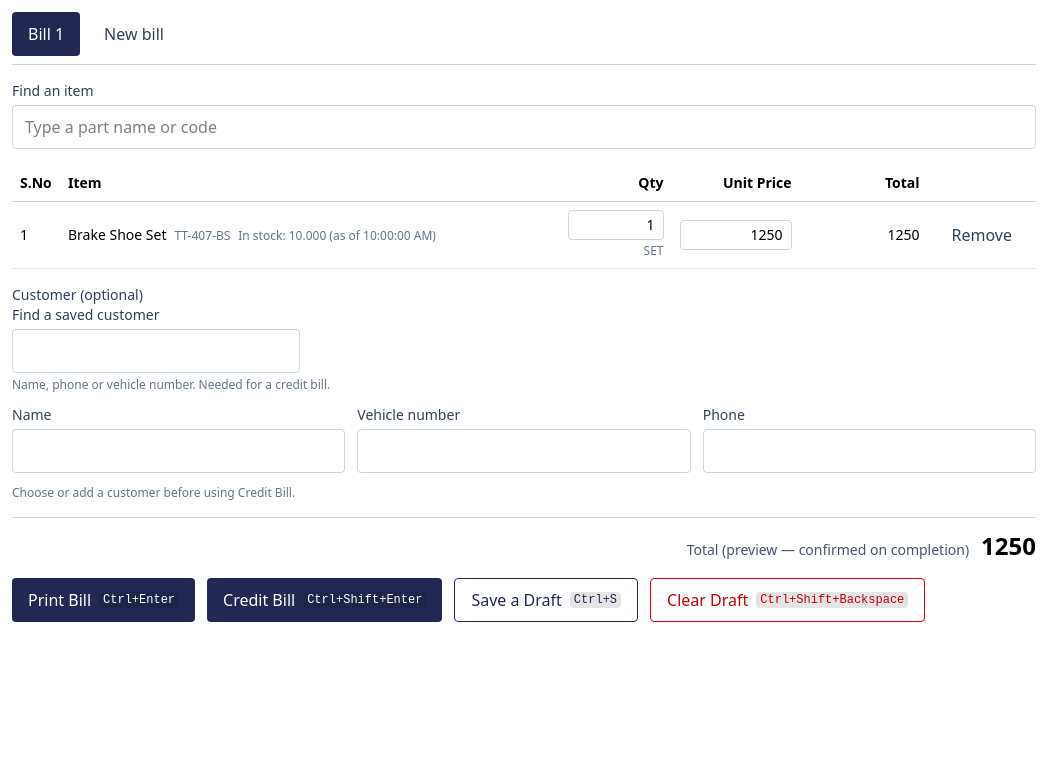
Test case: credit requires a saved customer (FR-CREDIT-009) › refuses before sending and says why
This screenshot has width=1048, height=780.
Click the button "Credit Bill Ctrl+Shift+Enter" at coordinates (325, 600), box [207, 578, 442, 622]
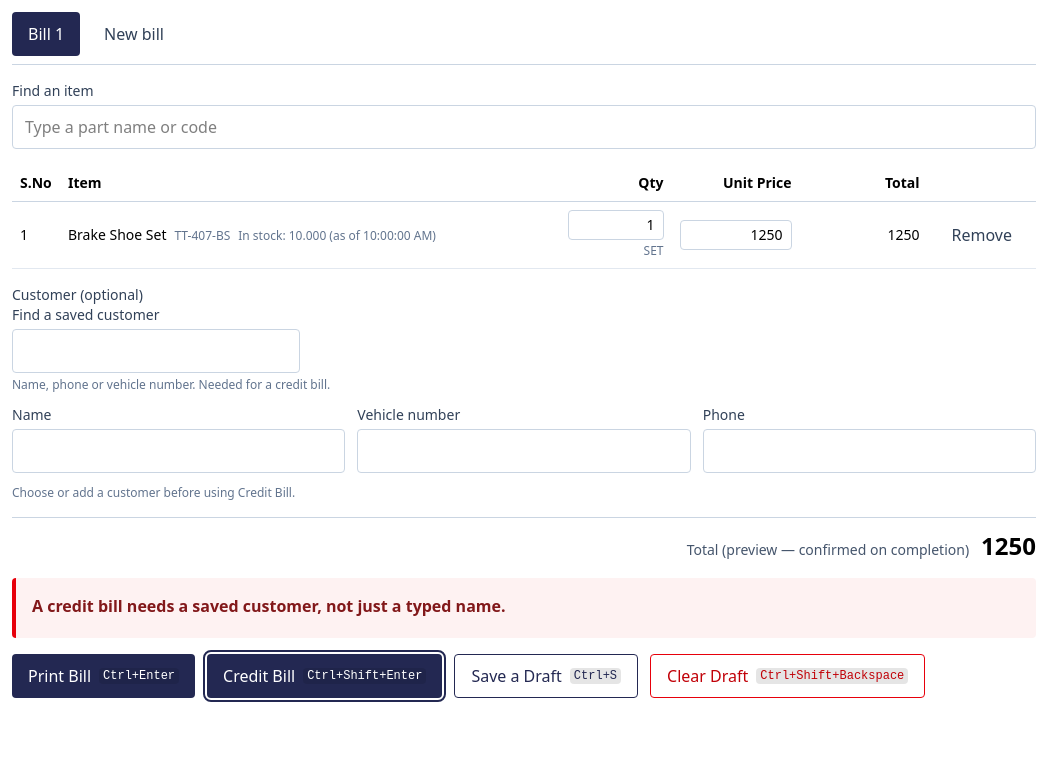
Result: the message shows "needs a saved customer" at [32, 595, 506, 617]
